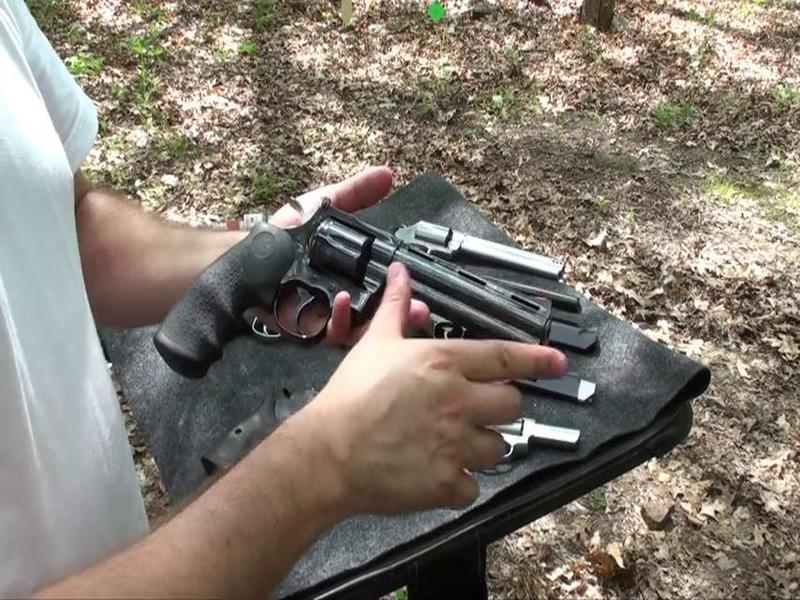Revolver: (141, 180, 566, 397)
